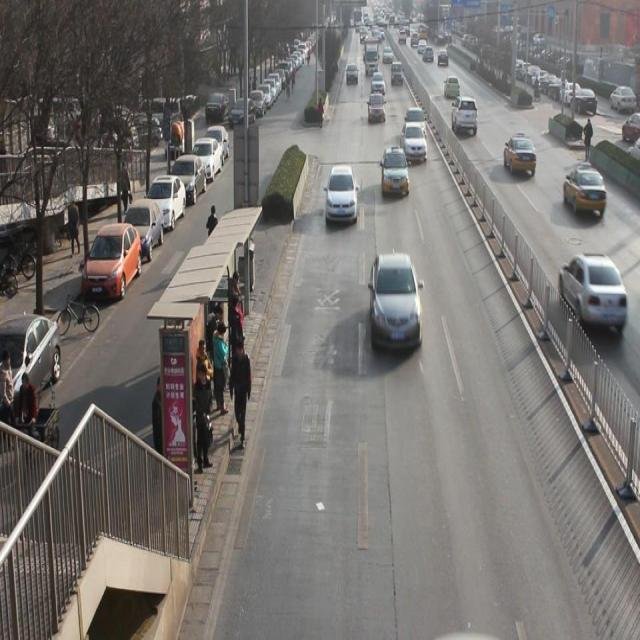car: (366, 251, 424, 351), (557, 250, 626, 334), (564, 162, 608, 217), (325, 164, 357, 220), (503, 131, 538, 177), (381, 146, 409, 194), (451, 94, 478, 136), (398, 123, 426, 163), (404, 105, 427, 138), (366, 92, 387, 120), (443, 75, 460, 98)
